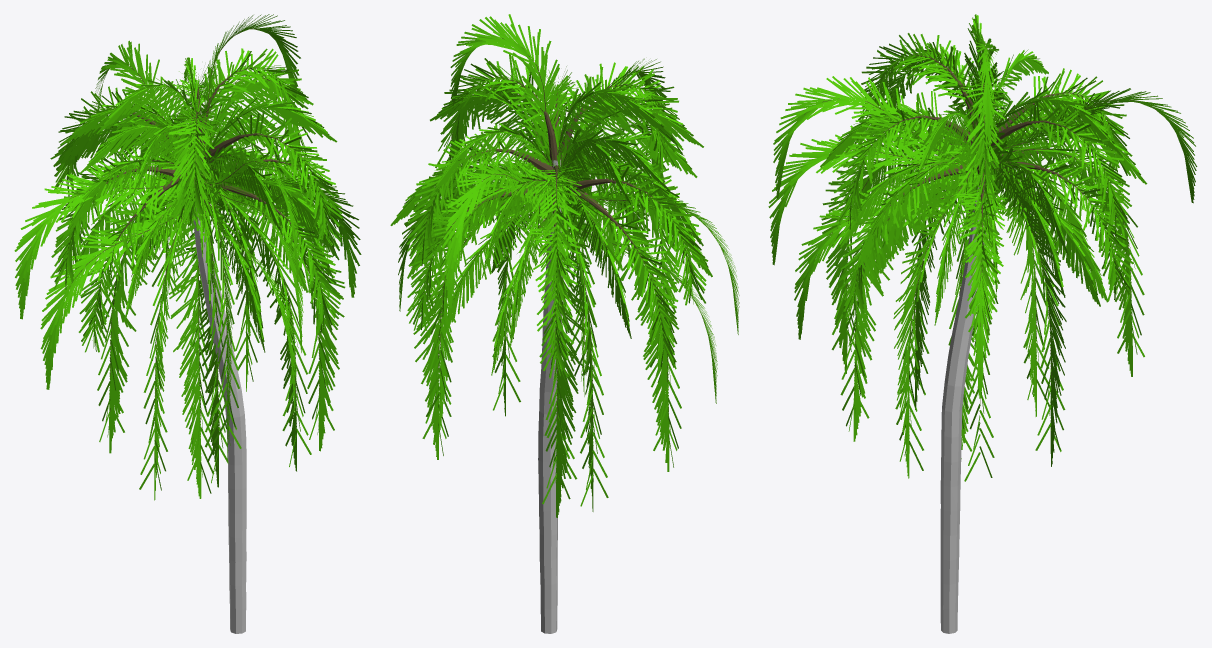
The model's file is palmtree.obj.
3 renders of one model, left to right at view 1: azimuth 30°, elevation 25°; view 2: azimuth 150°, elevation 25°; view 3: azimuth 270°, elevation 25°, orthographic. The views are drawn at different scales.
Parts seen in each view (by area): view 1: palm-high; view 2: palm-high; view 3: palm-high.
Boxes of the visible parts, x1,y1,x2,y2 form: palm-high: [14, 14, 361, 633]; palm-high: [390, 14, 739, 633]; palm-high: [768, 14, 1197, 633].
Size of the model in its own units: 2.96 by 5.01 by 3.16.
